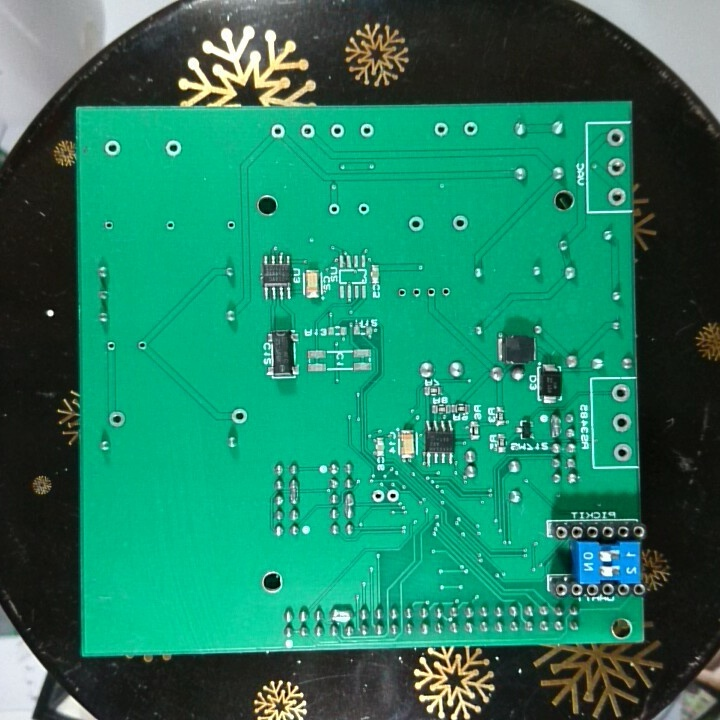F: (603, 126, 627, 150), (605, 155, 628, 179), (605, 185, 629, 208), (611, 440, 634, 464), (106, 407, 128, 430), (611, 410, 633, 433), (610, 382, 632, 404), (101, 137, 122, 160), (405, 213, 427, 234), (163, 137, 183, 160), (450, 212, 470, 234), (230, 405, 248, 429), (460, 118, 481, 138), (431, 120, 451, 140), (268, 122, 288, 141), (358, 121, 377, 140), (385, 484, 401, 506), (329, 121, 347, 140), (299, 122, 317, 140), (368, 486, 385, 505), (437, 283, 454, 301), (355, 200, 371, 217), (326, 201, 341, 218), (394, 284, 409, 300), (409, 283, 422, 301), (424, 283, 437, 301), (163, 218, 177, 233), (224, 217, 237, 233), (102, 218, 115, 232), (136, 338, 148, 353), (105, 339, 117, 353)
P: (547, 409, 564, 440), (328, 604, 354, 623), (342, 490, 357, 521), (287, 476, 302, 506)
